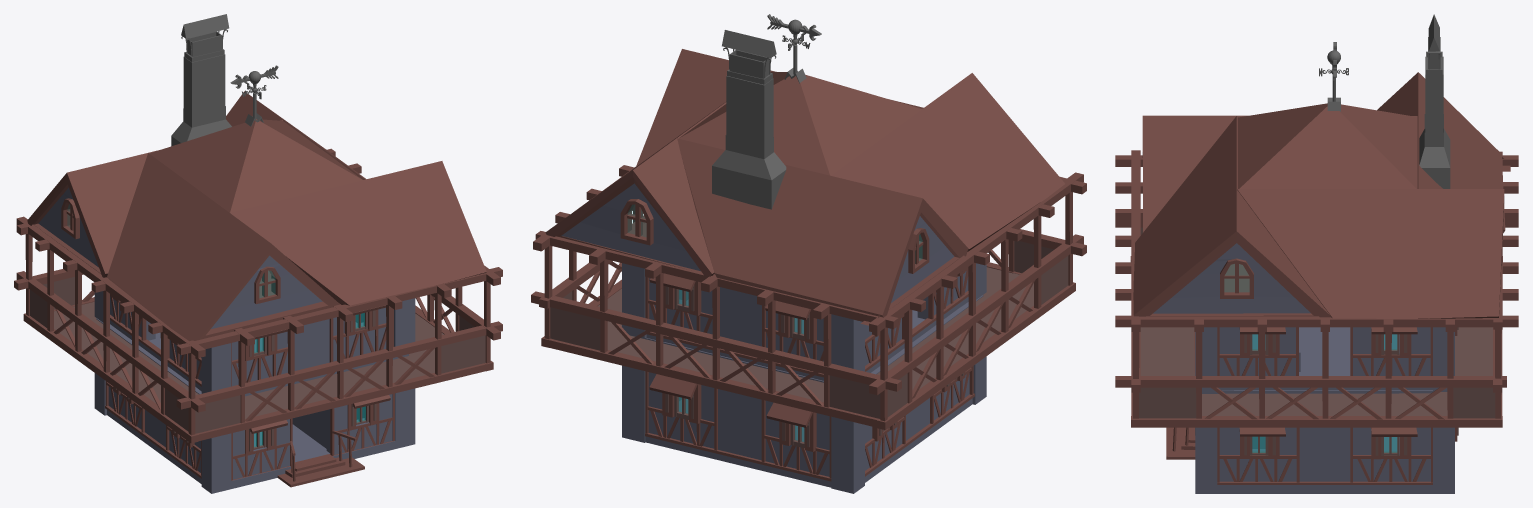
The model's file is house10.fbx.
The picture shows the model from 3 angles, left to right: view 1: azimuth 30°, elevation 25°; view 2: azimuth 150°, elevation 25°; view 3: azimuth 270°, elevation 25°; orthographic projection. The views are drawn at different scales.
Parts seen in each view (by area): view 1: polySurface603; view 2: polySurface603; view 3: polySurface603.
Boxes of the visible parts, <box> form: polySurface603: <box>14,14,502,493</box>; polySurface603: <box>531,14,1086,493</box>; polySurface603: <box>1115,14,1518,493</box>.
Size of the model in its own units: 1185 by 1307 by 1158.
